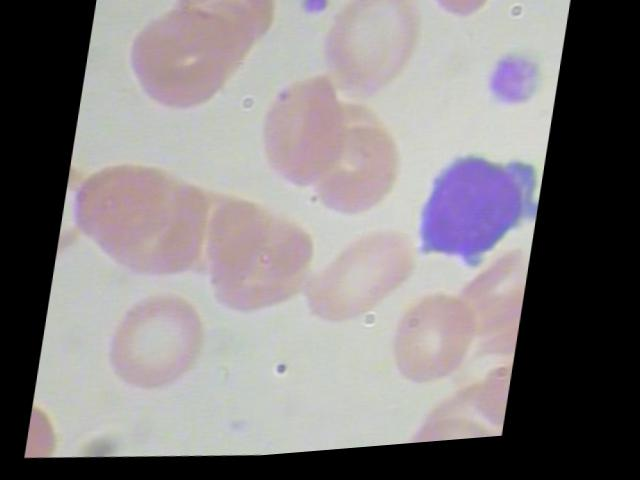Platelets: (476, 57, 553, 121), (292, 0, 340, 24)
Red Blood Cells: (110, 0, 244, 126), (93, 285, 216, 408), (305, 223, 429, 341), (250, 72, 353, 204), (317, 0, 431, 115), (306, 117, 408, 229), (388, 295, 489, 401), (404, 419, 514, 451), (417, 0, 522, 12)
White Blood Cells: (403, 132, 550, 288)
